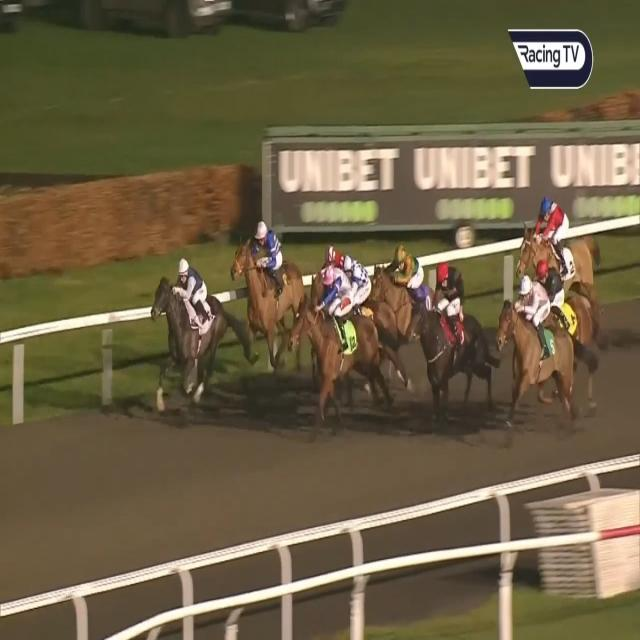horses-racing: (406, 262, 498, 414), (153, 259, 239, 403), (302, 264, 387, 407), (497, 279, 580, 411), (230, 215, 306, 359), (516, 195, 605, 294), (369, 245, 442, 342), (518, 257, 588, 338), (342, 254, 376, 310), (316, 243, 351, 280)
